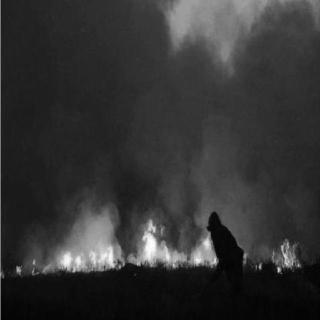Smoke: (67, 157, 116, 239)
